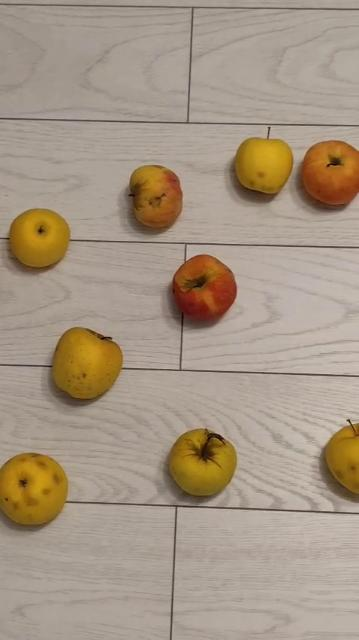apple_green: (0, 452, 70, 529), (168, 428, 236, 496), (54, 329, 119, 398), (8, 208, 70, 267), (235, 136, 294, 194), (325, 420, 358, 494)
apple_red: (172, 254, 237, 322), (300, 140, 359, 204), (129, 164, 183, 227)
